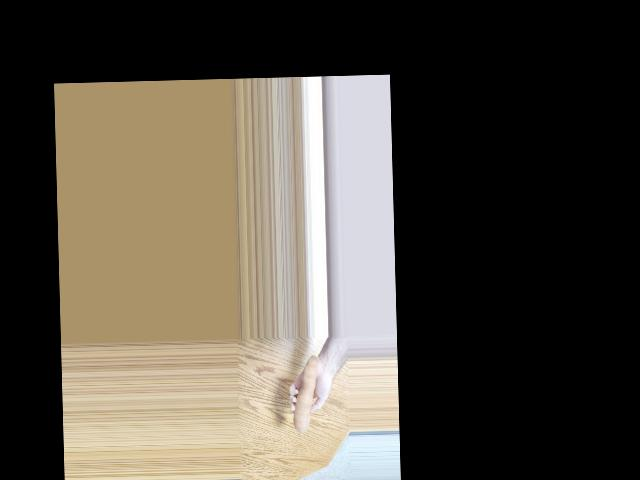sweet_potato: (288, 359, 323, 437)
